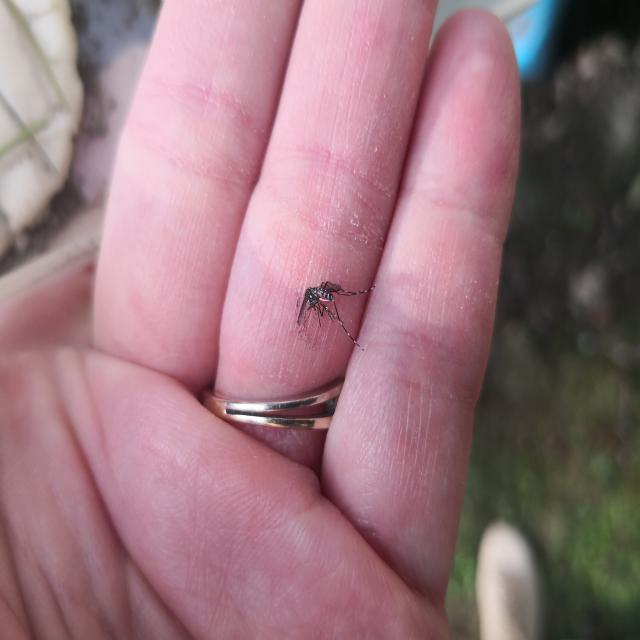albopictus: (295, 262, 375, 354)
